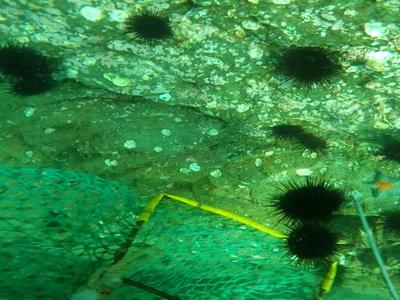urchin: (274, 177, 342, 223), (271, 45, 339, 88), (285, 219, 341, 268), (2, 44, 46, 74), (133, 13, 171, 40), (13, 71, 53, 95), (299, 132, 326, 153), (379, 207, 396, 238), (378, 139, 397, 165), (268, 124, 302, 137)
